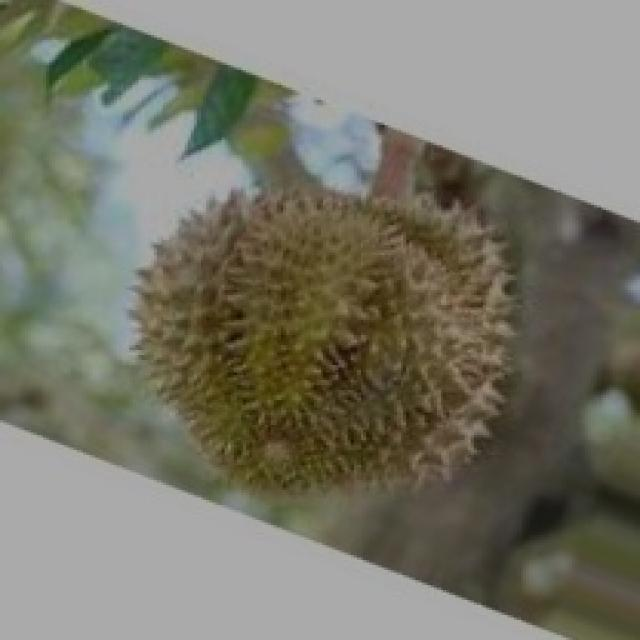fruit: (71, 122, 449, 552)
